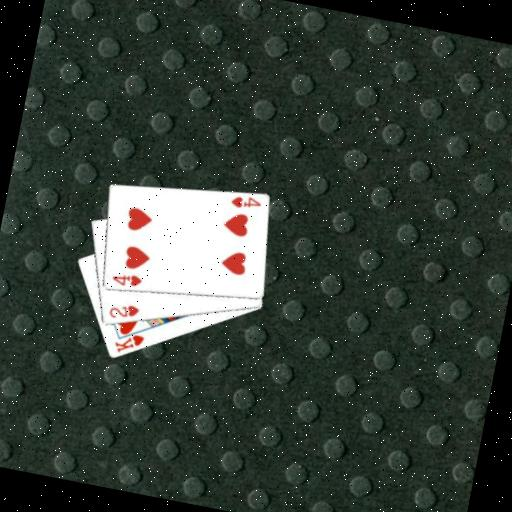2H: (105, 298, 142, 324)
4H: (108, 268, 145, 291), (226, 191, 263, 214)
KH: (110, 328, 147, 359)
